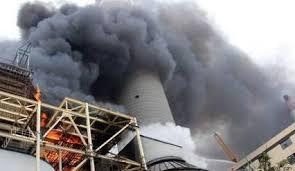fire: (40, 114, 83, 164), (33, 86, 42, 101)
